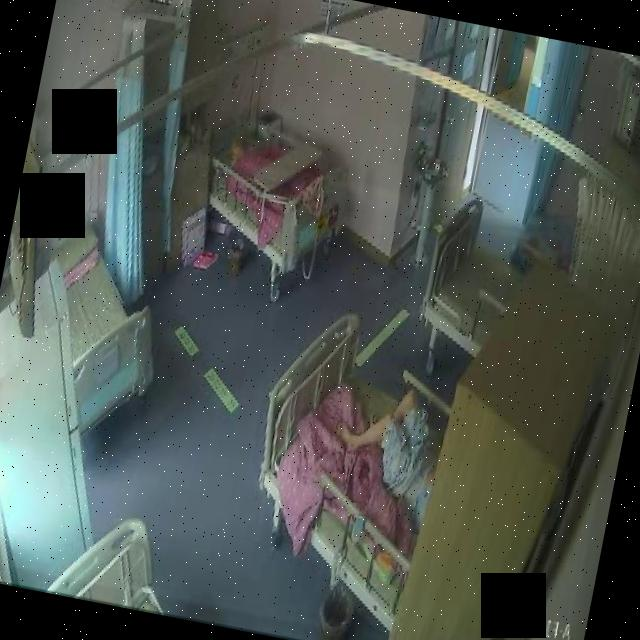bed: (242, 309, 464, 603), (29, 210, 182, 422), (194, 95, 363, 271), (413, 188, 536, 360)
lie: (323, 376, 453, 520)
patient: (323, 374, 455, 522), (224, 128, 262, 170)
